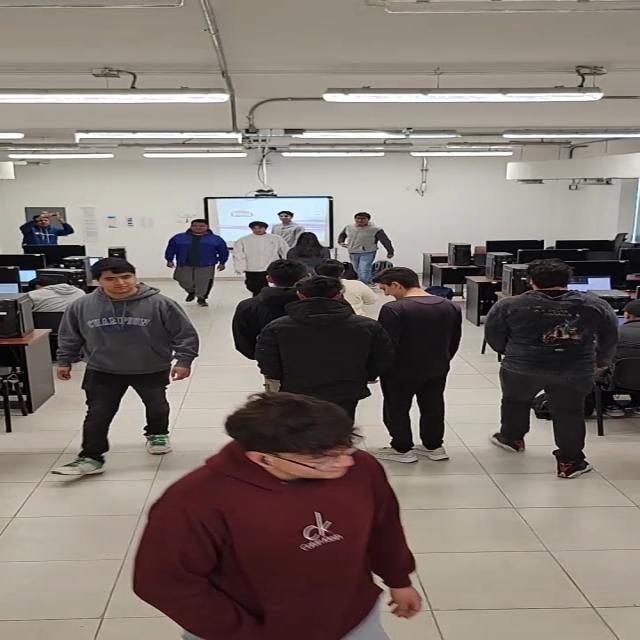Persona: (152, 393, 428, 640), (480, 259, 620, 487), (52, 255, 184, 470), (376, 268, 456, 466), (258, 275, 377, 407), (169, 216, 217, 309), (230, 217, 272, 286), (342, 210, 382, 276), (272, 202, 302, 244)
